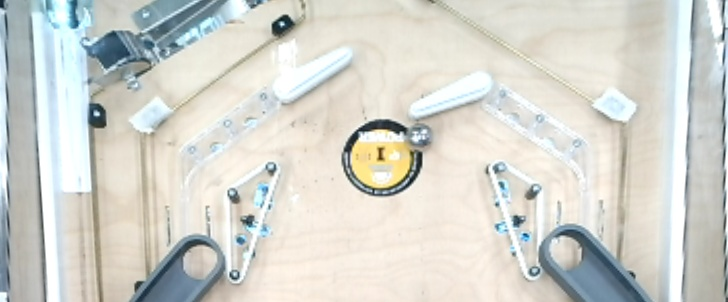ball: (403, 119, 438, 153)
flipper-left: (408, 66, 496, 118)
flipper-right: (268, 41, 357, 104)
